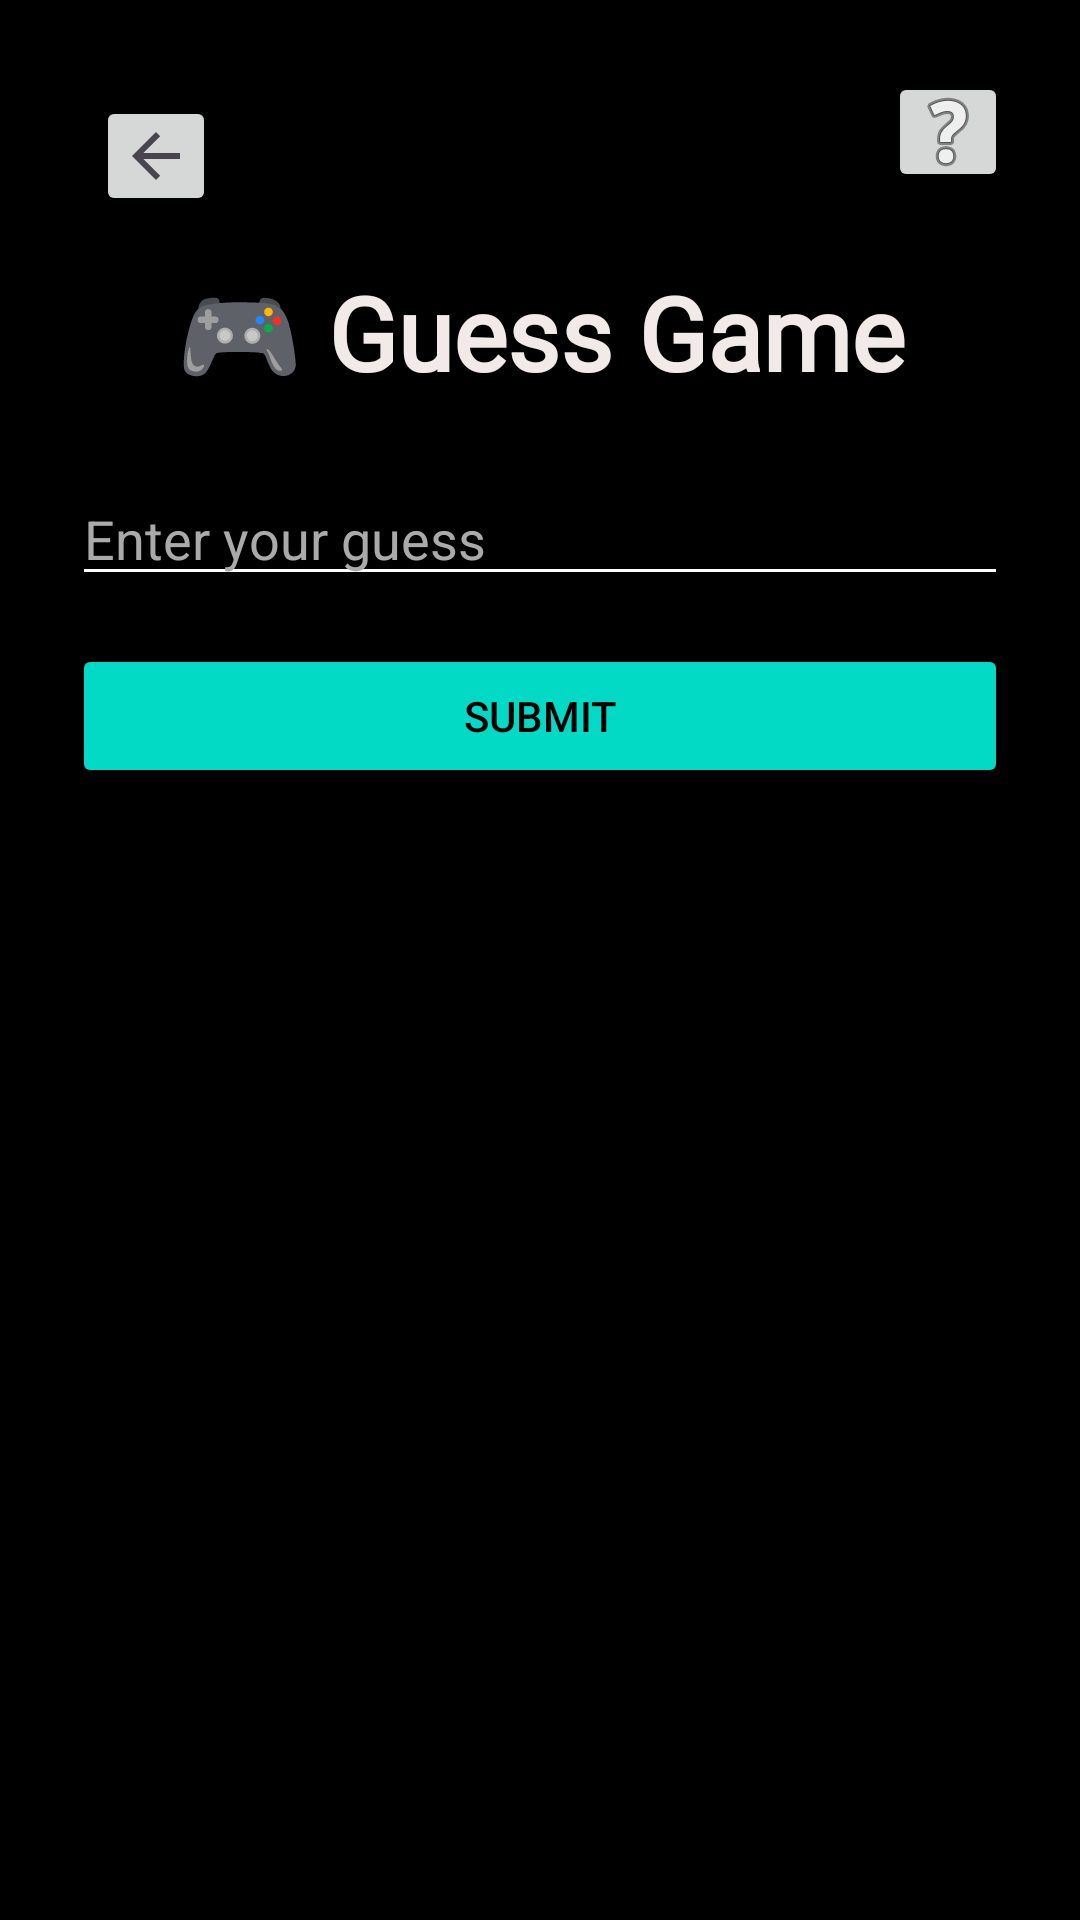

Named icons in this screenshot (1080×1920) and their bounding boxes, bbox=(x1, y1, x2, y2):
Hint: bbox=(900, 90, 996, 174)
